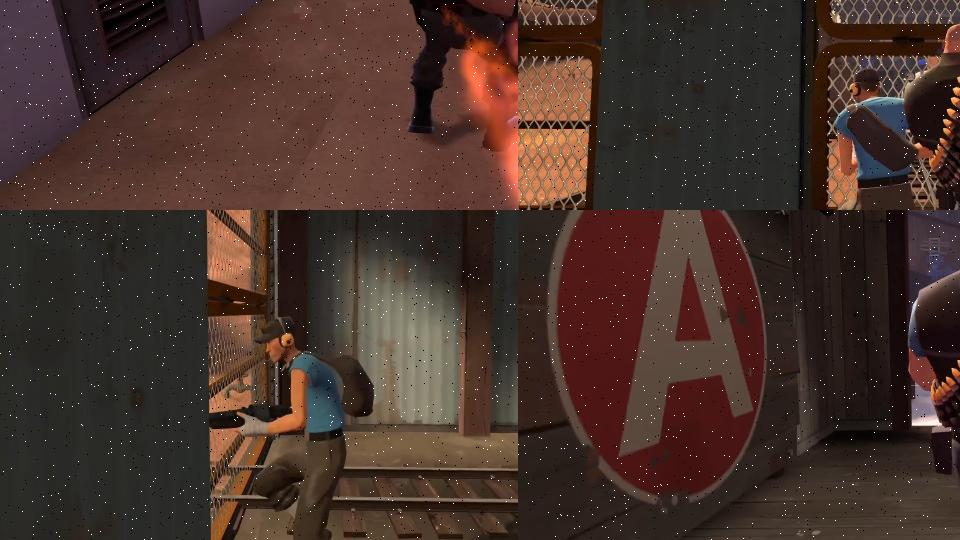Enemy: (205, 313, 374, 540), (796, 67, 954, 210), (374, 0, 518, 154)
